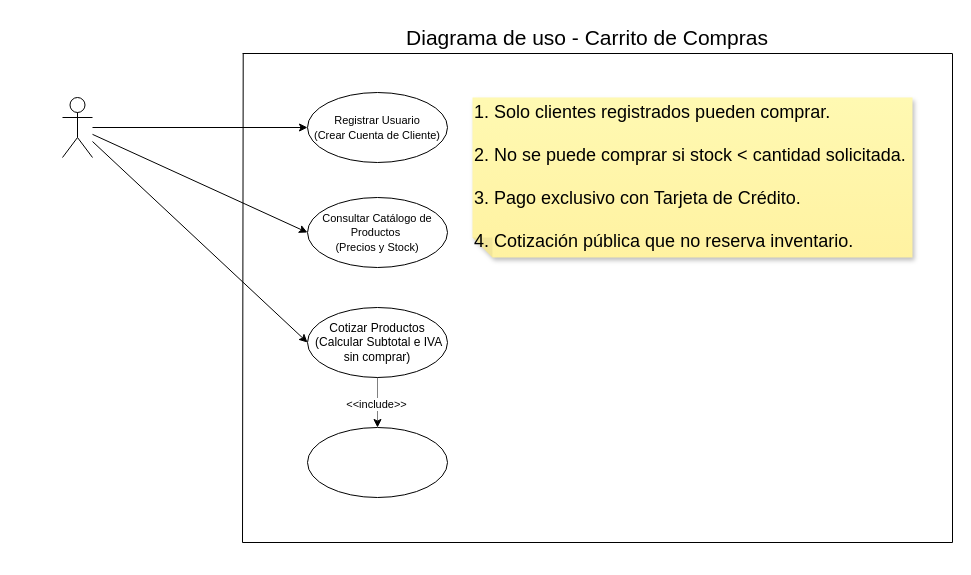
Some shapes in this 971 by 575 pixel diagram are drawn without their labels. The shapes that lost their labels are listed below. From the top down, each one's centre as x and y in pixels, then its label:
At pixel 77 127: "Usuario No Registrado".
At pixel 377 462: "Validar Inventario (Stock >= Cantidad)".
